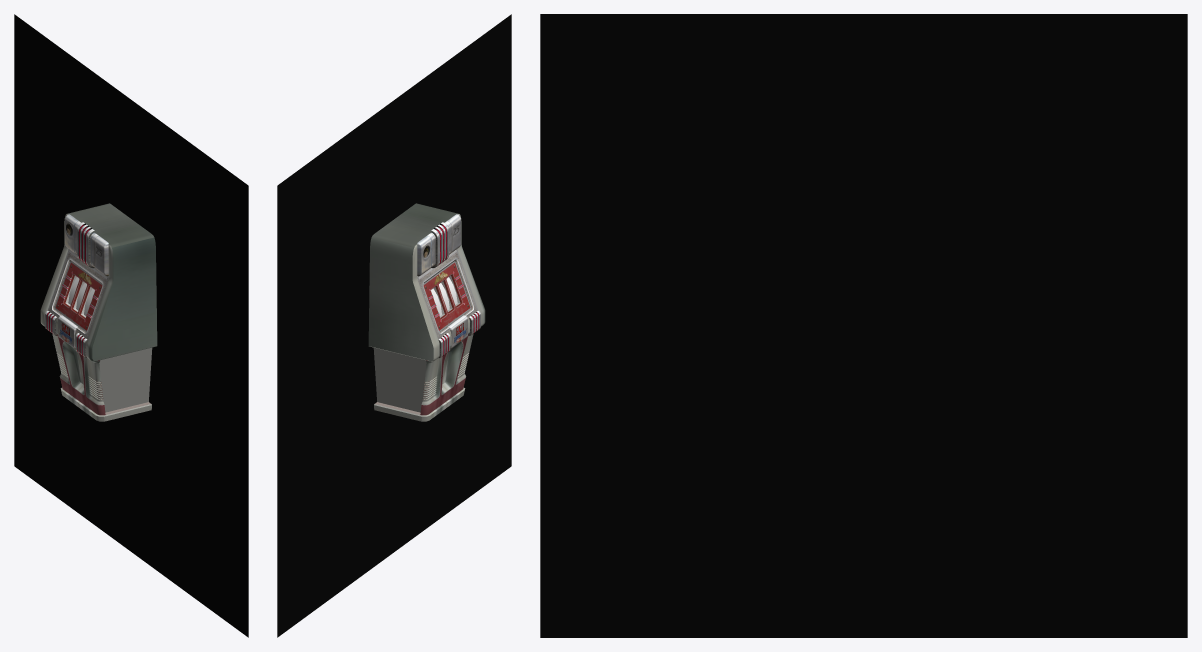
The model's file is slot_machine.FBX.
3 views of the same model, side by side, from view 1: azimuth 30°, elevation 25°; view 2: azimuth 150°, elevation 25°; view 3: azimuth 270°, elevation 25° (orthographic). The views are drawn at different scales.
Parts seen in each view (by area): view 1: placka_cerna, RANTL, stinek; view 2: placka_cerna, RANTL, stinek; view 3: placka_cerna.
Boxes of the visible parts, x1,y1,x2,y2 form: placka_cerna: (14,14,248,637); RANTL: (40,203,157,421); stinek: (47,249,108,339); placka_cerna: (277,14,511,637); RANTL: (368,203,485,421); stinek: (417,249,478,339); placka_cerna: (540,14,1187,637).
Bounding box in the file's own units: 88.75 × 574 × 540.
